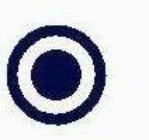RadioButton: (1, 1, 148, 139)
